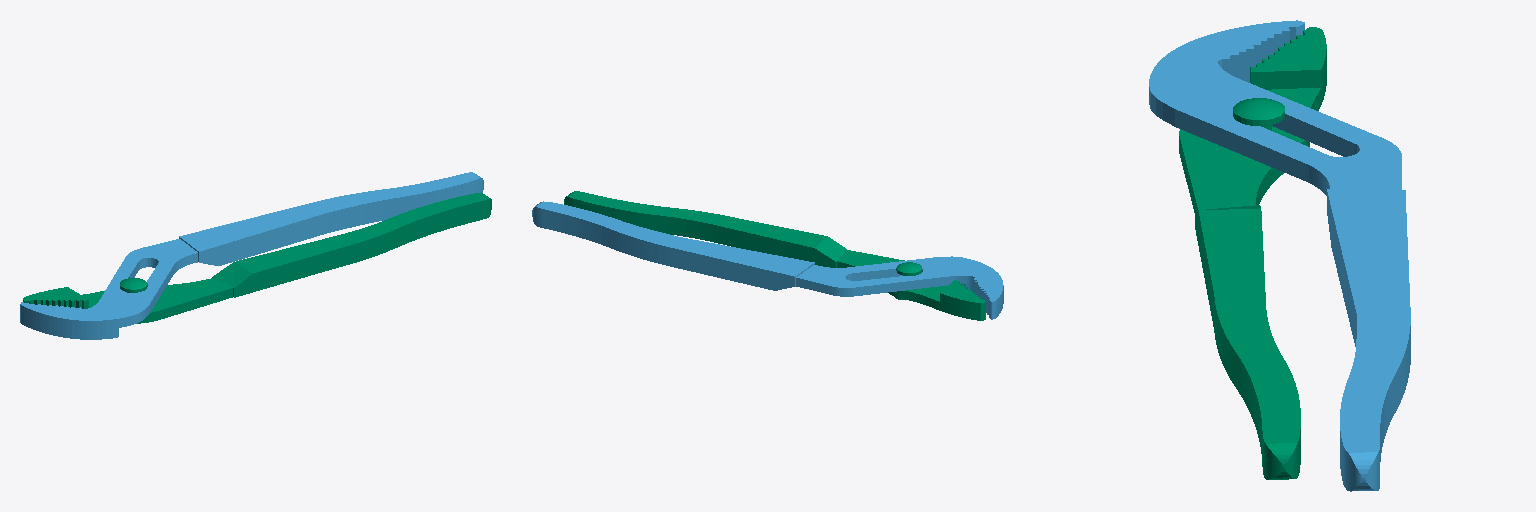
URDF robot description (partnet_fd00bdd9547b85e338a90267289a369b-0):
<?xml version="1.0" ?>
<robot name="partnet_fd00bdd9547b85e338a90267289a369b-0">
	<link name="base"/>
	<link name="link_0">
		<visual name="leg-1">
			<origin xyz="-0.0630351212620735 0 -0.47192274332046485"/>
			<geometry>
				<mesh filename="textured_objs/original-1.obj"/>
			</geometry>
		</visual>
		<collision>
			<origin xyz="-0.0630351212620735 0 -0.47192274332046485"/>
			<geometry>
				<mesh filename="textured_objs/original-1.obj"/>
			</geometry>
		</collision>
	</link>
	<joint name="joint_0" type="revolute">
		<origin xyz="0.0630351212620735 0 0.47192274332046485"/>
		<axis xyz="0 1 0"/>
		<child link="link_0"/>
		<parent link="link_1"/>
		<limit lower="0.0" upper="1.3962634015954636"/>
	</joint>
	<link name="link_1">
		<visual name="base_body-2">
			<origin xyz="0 0 0"/>
			<geometry>
				<mesh filename="textured_objs/original-4.obj"/>
			</geometry>
		</visual>
		<visual name="base_body-2">
			<origin xyz="0 0 0"/>
			<geometry>
				<mesh filename="textured_objs/original-3.obj"/>
			</geometry>
		</visual>
		<collision>
			<origin xyz="0 0 0"/>
			<geometry>
				<mesh filename="textured_objs/original-4.obj"/>
			</geometry>
		</collision>
		<collision>
			<origin xyz="0 0 0"/>
			<geometry>
				<mesh filename="textured_objs/original-3.obj"/>
			</geometry>
		</collision>
	</link>
	<joint name="joint_1" type="fixed">
		<origin rpy="1.570796326794897 0 -1.570796326794897" xyz="0 0 0"/>
		<child link="link_1"/>
		<parent link="base"/>
	</joint>
</robot>

--- Facts derived from the render (not from the file) ---
The picture shows the robot from 3 angles, left to right: view 1: azimuth 30°, elevation 25°; view 2: azimuth 150°, elevation 25°; view 3: azimuth 270°, elevation 25°; orthographic projection.
Robot: partnet_fd00bdd9547b85e338a90267289a369b-0 — 3 links, 2 joints (1 revolute, 1 fixed); root link base; default pose: all joints at 0.
Visible links, largest first — view 1: link_0, link_1; view 2: link_0, link_1; view 3: link_0, link_1.
Link boxes in pixels (x1=…): link_0: x1=20, y1=172, x2=483, y2=339; link_1: x1=23, y1=193, x2=491, y2=323; link_0: x1=532, y1=201, x2=1003, y2=319; link_1: x1=564, y1=191, x2=985, y2=320; link_0: x1=1149, y1=20, x2=1410, y2=491; link_1: x1=1179, y1=27, x2=1326, y2=479.
Size in the robot's own frame: 1.87 by 0.4672 by 0.1232 metres.
Meshes: 3 distinct files referenced, 3 mesh visuals loaded (3 OBJ).